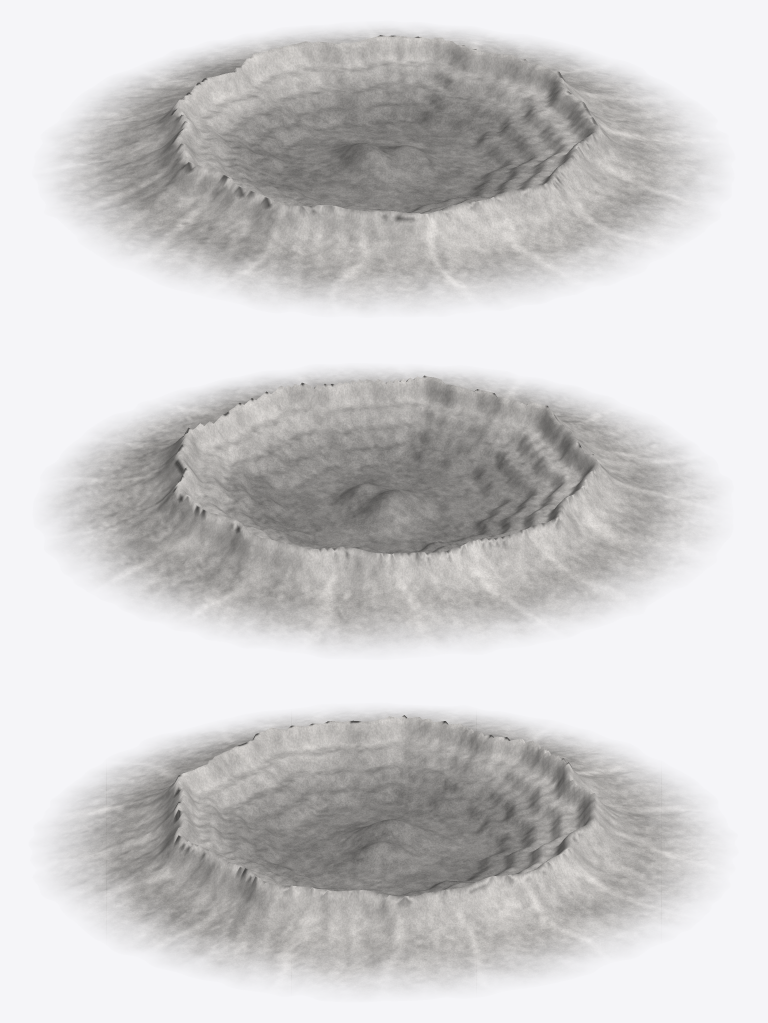
The model's file is crater.glb.
3 views of the same model, one above another, from view 1: azimuth 30°, elevation 25°; view 2: azimuth 150°, elevation 25°; view 3: azimuth 270°, elevation 25° (orthographic).
Parts seen in each view (by area): view 1: crater; view 2: crater; view 3: crater.
Part boxes in pixels (x1=…): crater: x1=50, y1=26, x2=719, y2=311; crater: x1=46, y1=368, x2=719, y2=651; crater: x1=46, y1=708, x2=722, y2=995.
Bounding box in the file's own units: 6 × 0.4224 × 6.
Materials: 1 (1 with a texture image).
